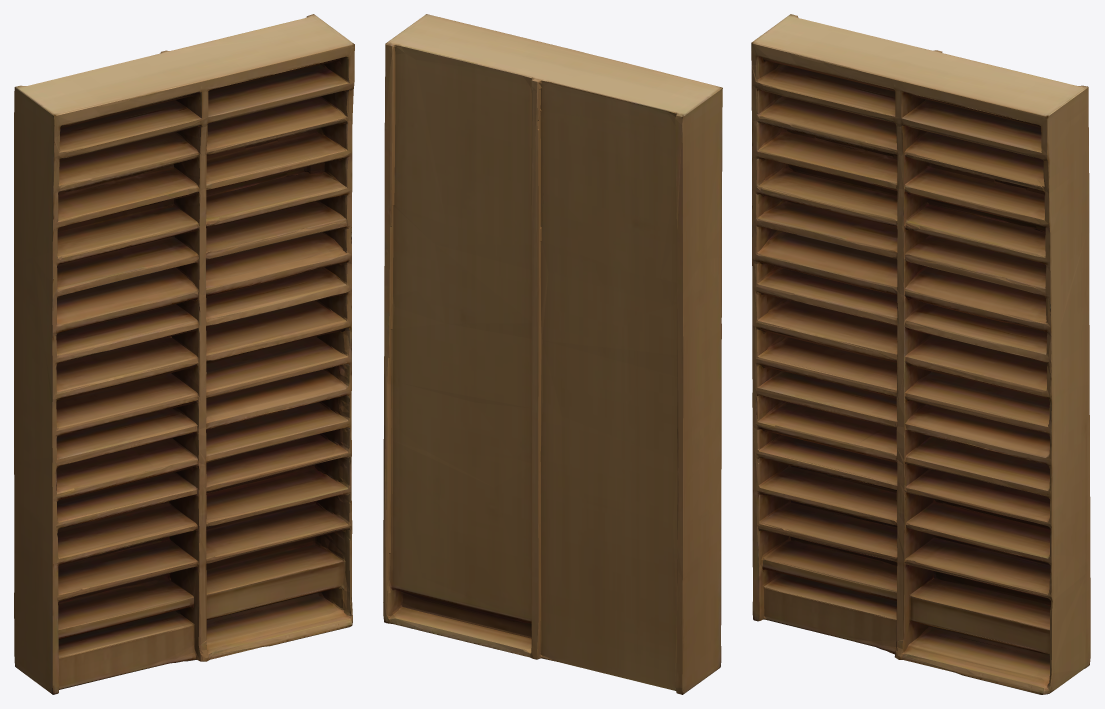
The model's file is screen_slatted_wood.glb.
The picture shows the model from 3 angles, left to right: view 1: azimuth 30°, elevation 25°; view 2: azimuth 150°, elevation 25°; view 3: azimuth 330°, elevation 25°; orthographic projection.
Visible parts, largest first — view 1: geometry_0; view 2: geometry_0; view 3: geometry_0.
Part boxes in pixels (x1=…): geometry_0: x1=14, y1=14, x2=354, y2=694; geometry_0: x1=383, y1=14, x2=722, y2=694; geometry_0: x1=751, y1=14, x2=1090, y2=694.
Bounding box in the file's own units: 0.5432 × 1 × 0.1339.
1 material, 1 textured.
